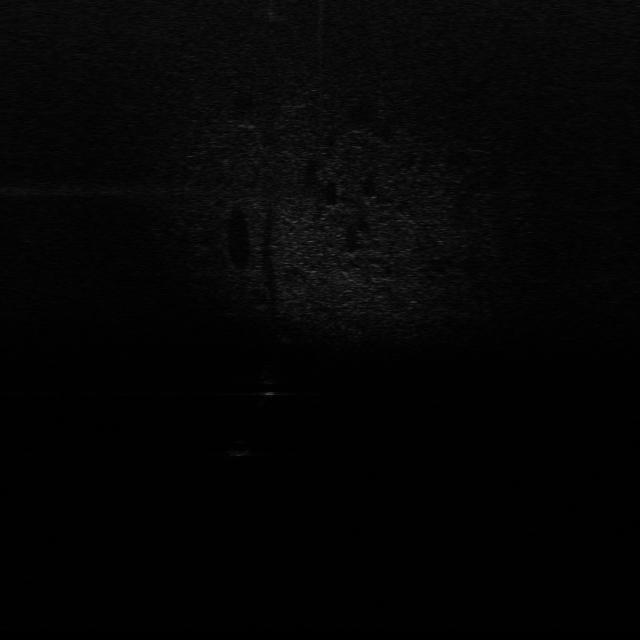ball: (228, 440, 252, 459)
human body: (260, 362, 280, 409)
